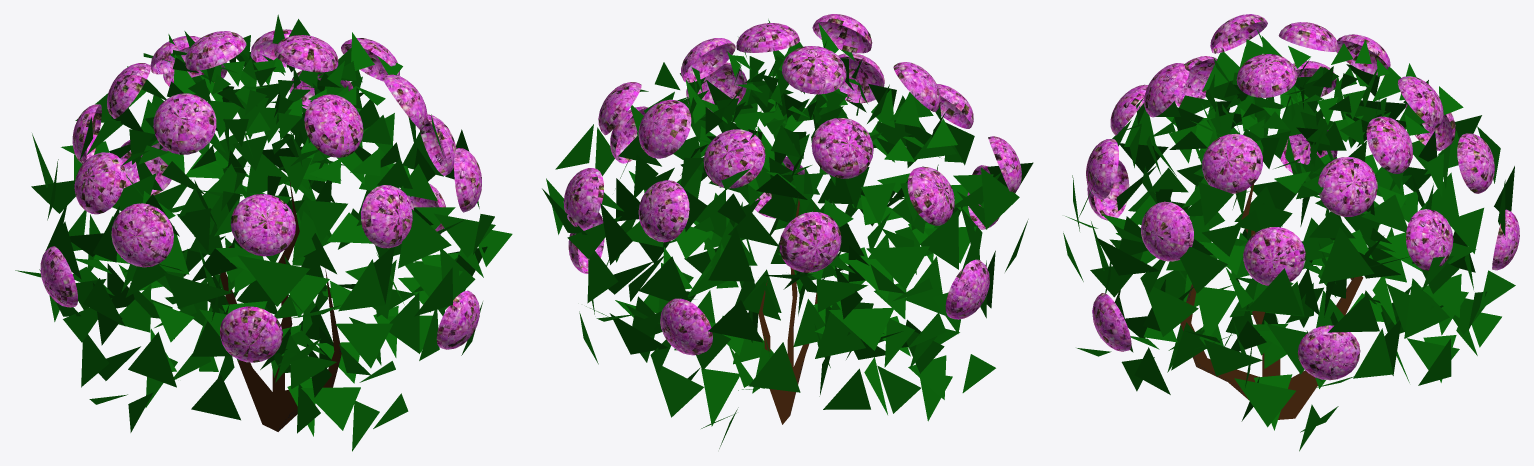
Rendered from hydrangea_macrophylla.dae.
The picture shows the model from 3 angles, left to right: view 1: azimuth 30°, elevation 25°; view 2: azimuth 150°, elevation 25°; view 3: azimuth 270°, elevation 25°; orthographic projection. The views are drawn at different scales.
Visible parts, largest first — view 1: Model, leaflet2 (×18), leaflet1 (×16), leaflet3 (×15), trunk_1; view 2: Model, leaflet1 (×14), leaflet2 (×15), leaflet3 (×14), trunk_1; view 3: Model, leaflet2 (×21), leaflet1 (×15), leaflet3 (×12), trunk_1.
Part boxes in pixels (x1,y1,x2,y2): Model: [40, 29, 481, 362]; leaflet2 (×18): [31, 135, 512, 387]; leaflet1 (×16): [81, 100, 462, 433]; leaflet3 (×15): [93, 153, 475, 451]; trunk_1: [219, 180, 341, 431]; Model: [563, 14, 1021, 355]; leaflet1 (×14): [587, 154, 958, 417]; leaflet2 (×15): [567, 122, 995, 392]; leaflet3 (×14): [555, 92, 1019, 426]; trunk_1: [758, 173, 817, 424]; Model: [1086, 14, 1519, 380]; leaflet2 (×21): [1090, 76, 1515, 378]; leaflet1 (×15): [1119, 52, 1461, 427]; leaflet3 (×12): [1096, 109, 1449, 375]; trunk_1: [1180, 184, 1363, 419].
Size of the model in its own units: 108 by 108 by 98.09.
Materials: 4 (1 with a texture image).
